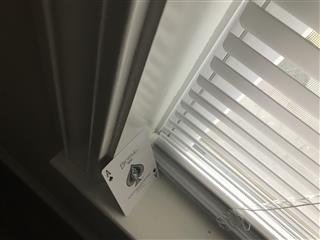AceOfSpades: (100, 129, 160, 216)
